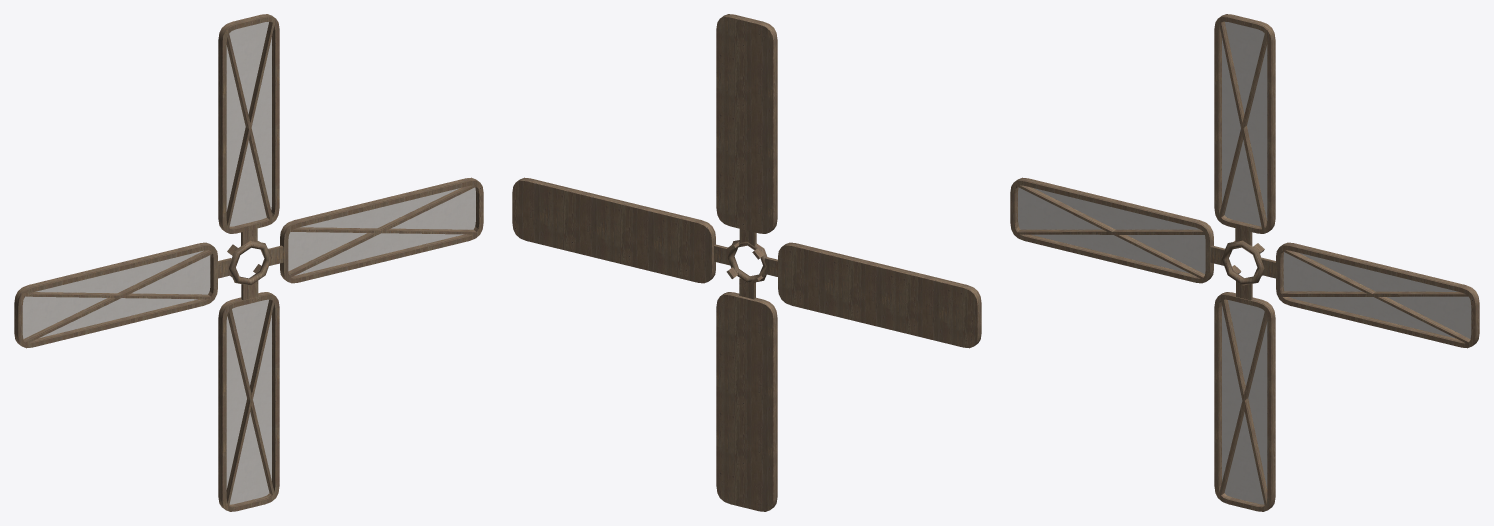
The model's file is OU_AR_Mell_Fabric_01_D.fbx.
3 renders of one model, left to right at view 1: azimuth 30°, elevation 25°; view 2: azimuth 150°, elevation 25°; view 3: azimuth 330°, elevation 25°, orthographic.
Visible parts, largest first — view 1: Mell_02; view 2: Mell_02; view 3: Mell_02.
Part boxes in pixels (left/top/right/bottom): Mell_02: left=14, top=14, right=483, bottom=511; Mell_02: left=512, top=14, right=981, bottom=511; Mell_02: left=1010, top=14, right=1479, bottom=511.
Bounding box in the file's own units: 562 × 562 × 16.51.
Materials: 2 (2 with a texture image).
